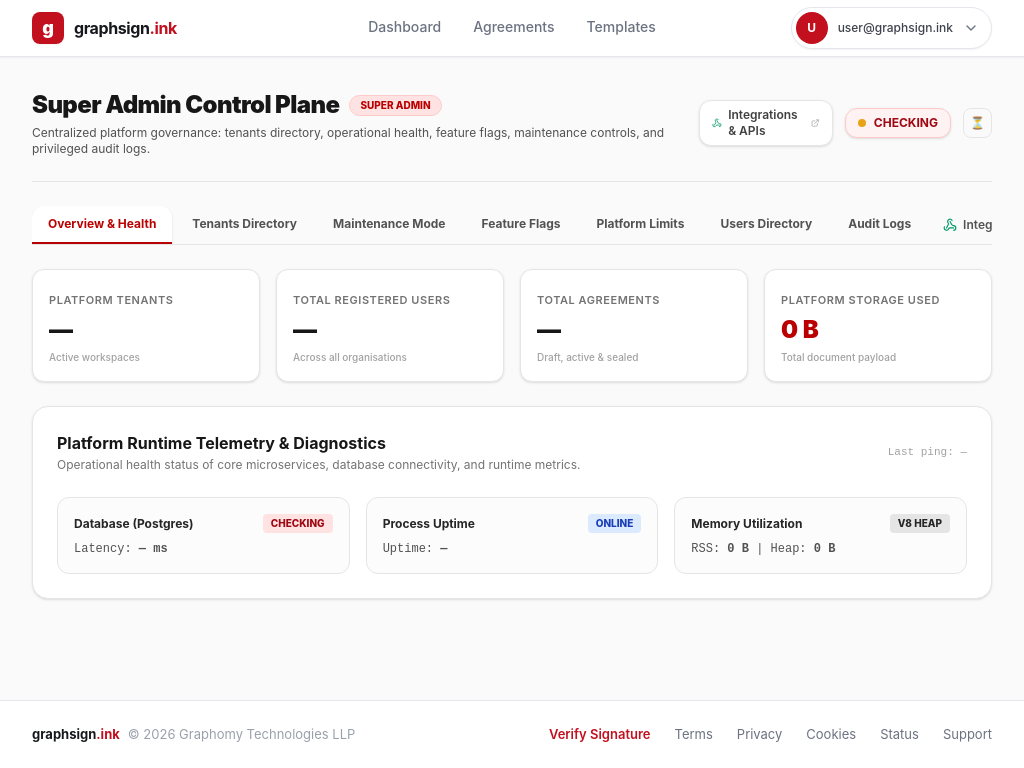
Test: AdminDashboardPage Control Plane Unit Tests (FR-015 / INK-287) › opens and closes the Override Limits modal for a tenant
Click the button "Tenants Directory" at (245, 225), box x1=176 y1=206 x2=313 y2=244
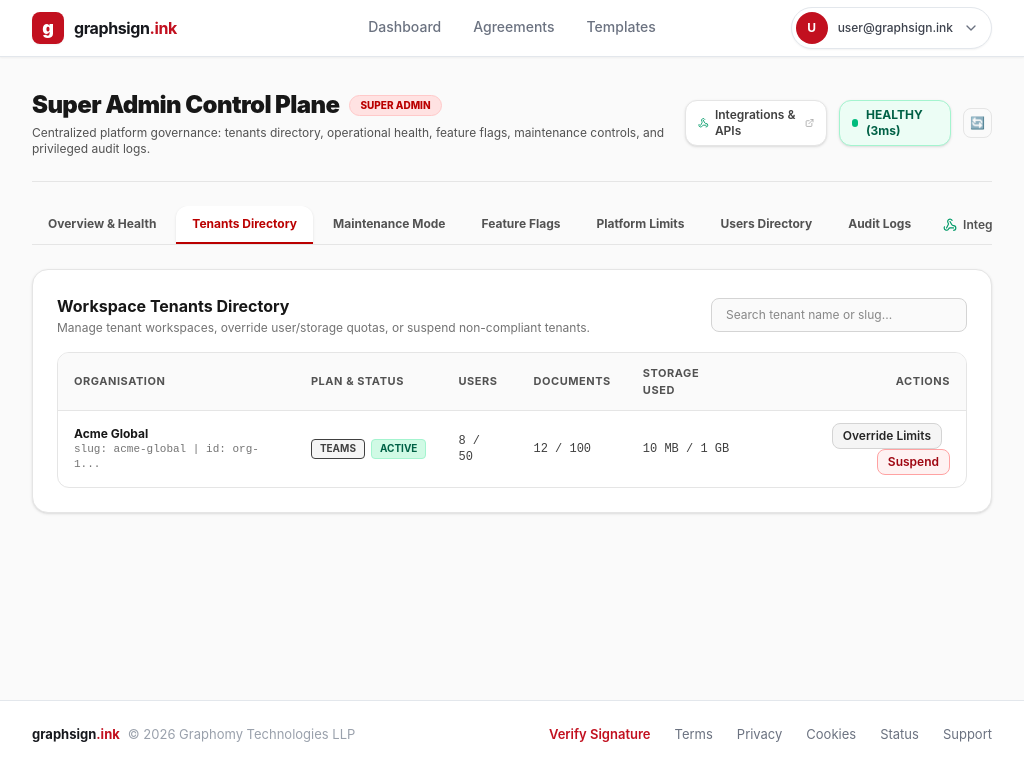
Expected: the text "Acme Global" is shown, x1=74 y1=426 x2=148 y2=441
Click the button "Override Limits" at (887, 436), box x1=832 y1=423 x2=942 y2=449
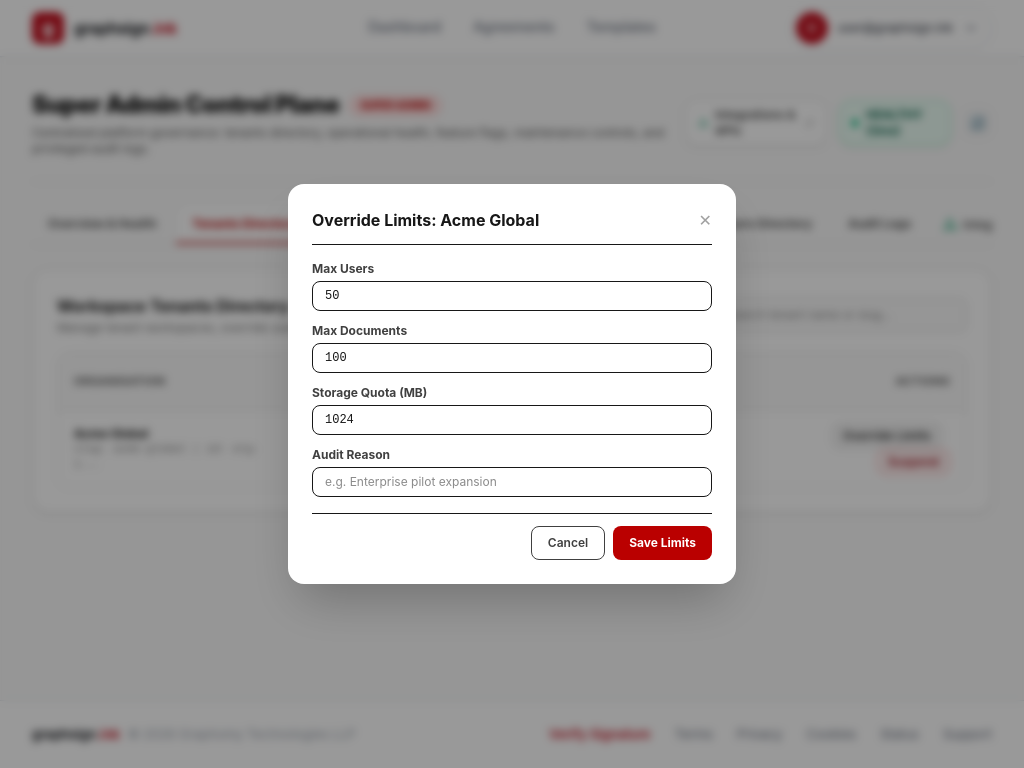
Expected: the heading "Override Limits: Acme Global" is shown, x1=312 y1=208 x2=539 y2=232
Expected: the text "Audit Reason" is shown, x1=312 y1=447 x2=390 y2=462
Click the button "Cancel" at (568, 543), box x1=531 y1=526 x2=605 y2=560
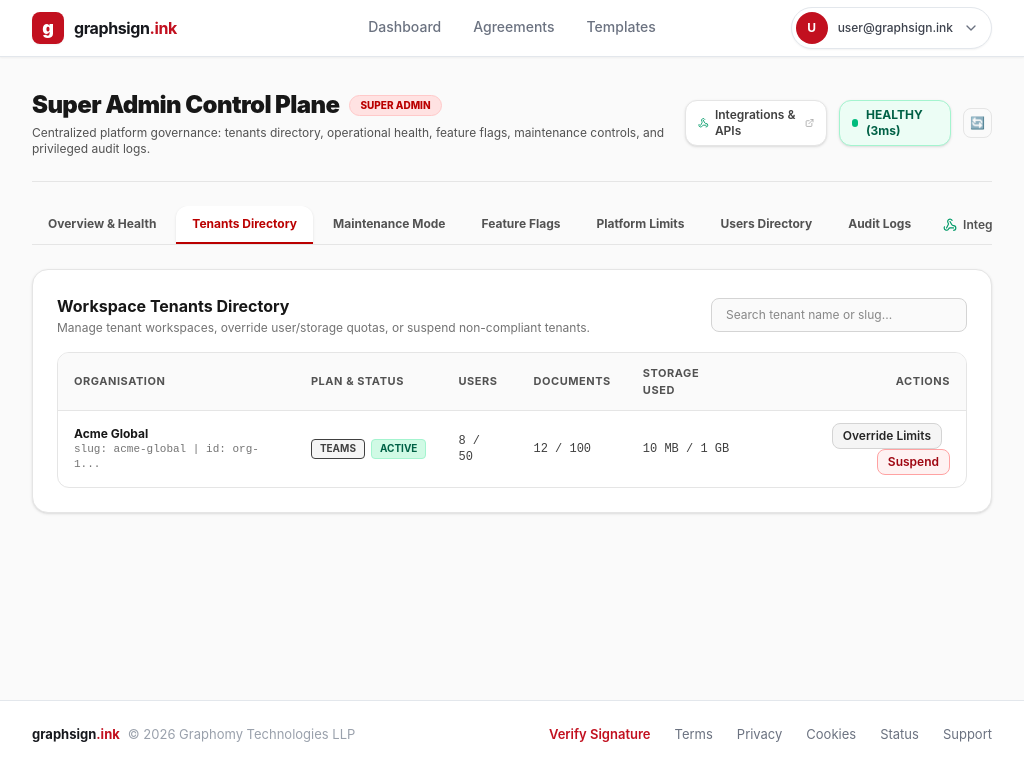
Expected: the heading "Override Limits: Acme Global" is gone
